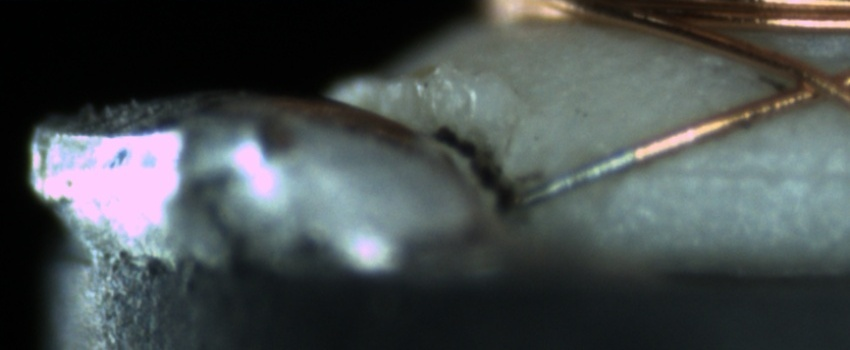CL: (755, 51, 849, 117)
DL: (637, 140, 850, 204)
TS: (503, 146, 639, 209)
